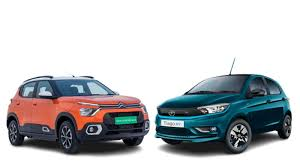Tiago: (155, 70, 293, 155)
